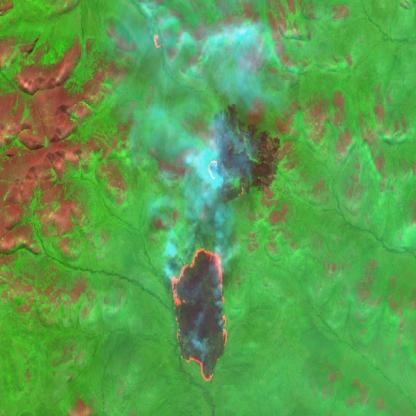fire: (167, 245, 229, 384)
